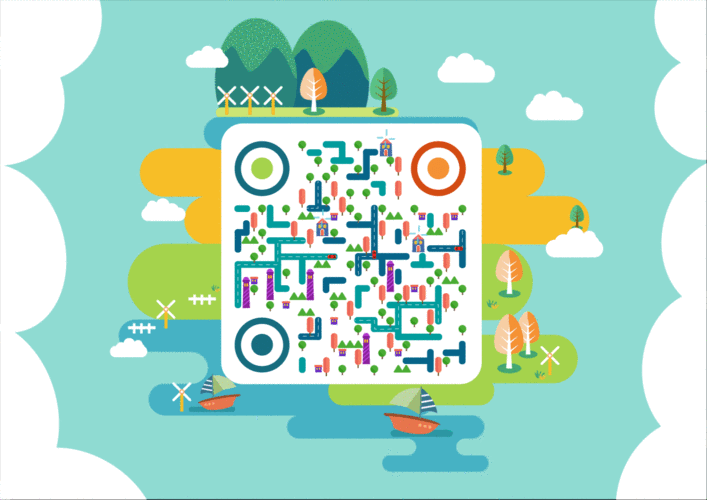QRCode: (230, 134, 476, 376)
